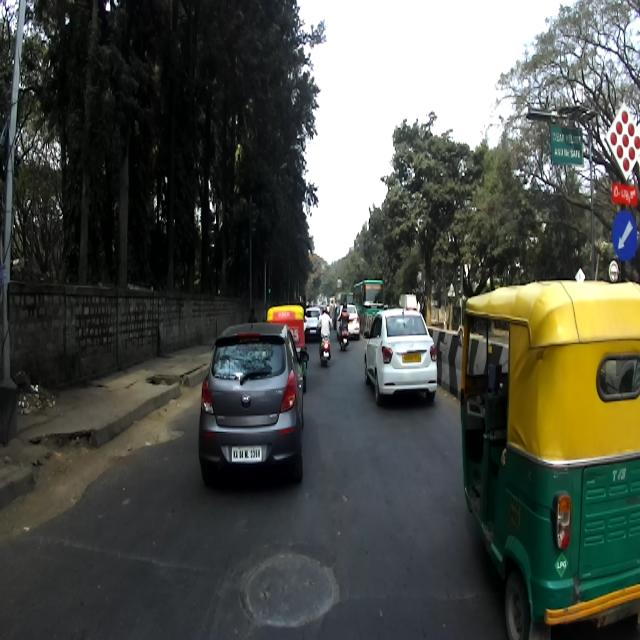auto ahead at: (457, 289, 640, 633)
car ahead at: (202, 326, 302, 477), (364, 310, 438, 402)
